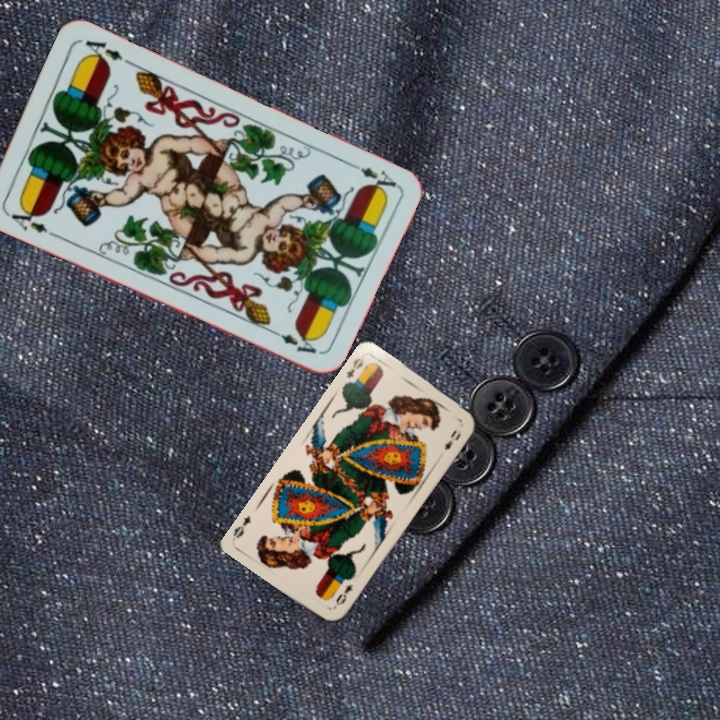EA: (344, 158, 399, 195), (1, 201, 50, 236)
EO: (330, 580, 356, 611), (342, 353, 366, 381)
